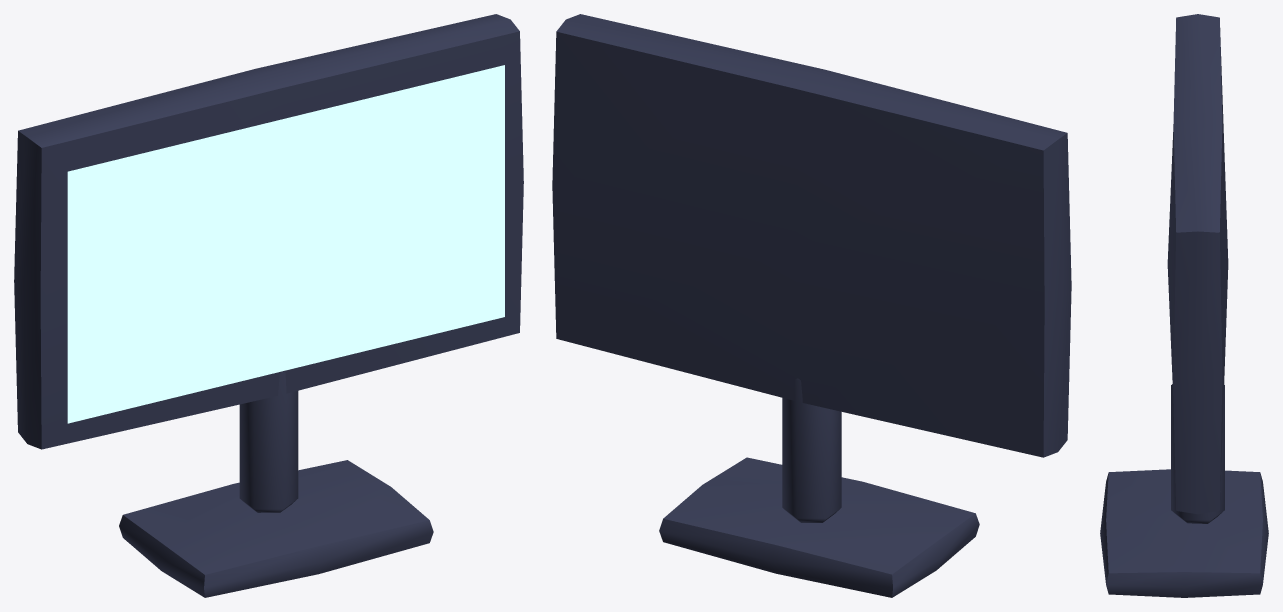
The model's file is monitor-single.glb.
The picture shows the model from 3 angles, left to right: view 1: azimuth 30°, elevation 25°; view 2: azimuth 150°, elevation 25°; view 3: azimuth 270°, elevation 25°; orthographic projection. The views are drawn at different scales.
Visible parts, largest first — view 1: screen, part (×3); view 2: part (×3); view 3: part (×3).
Part boxes in pixels (x1,y1,x2,y2): screen: (67, 65, 504, 423); part (×3): (14, 14, 523, 597); part (×3): (552, 14, 1071, 597); part (×3): (1100, 14, 1268, 597).
Bounding box in the file's own units: 0.78 × 0.71 × 0.25.
2 materials, 2 textured.
